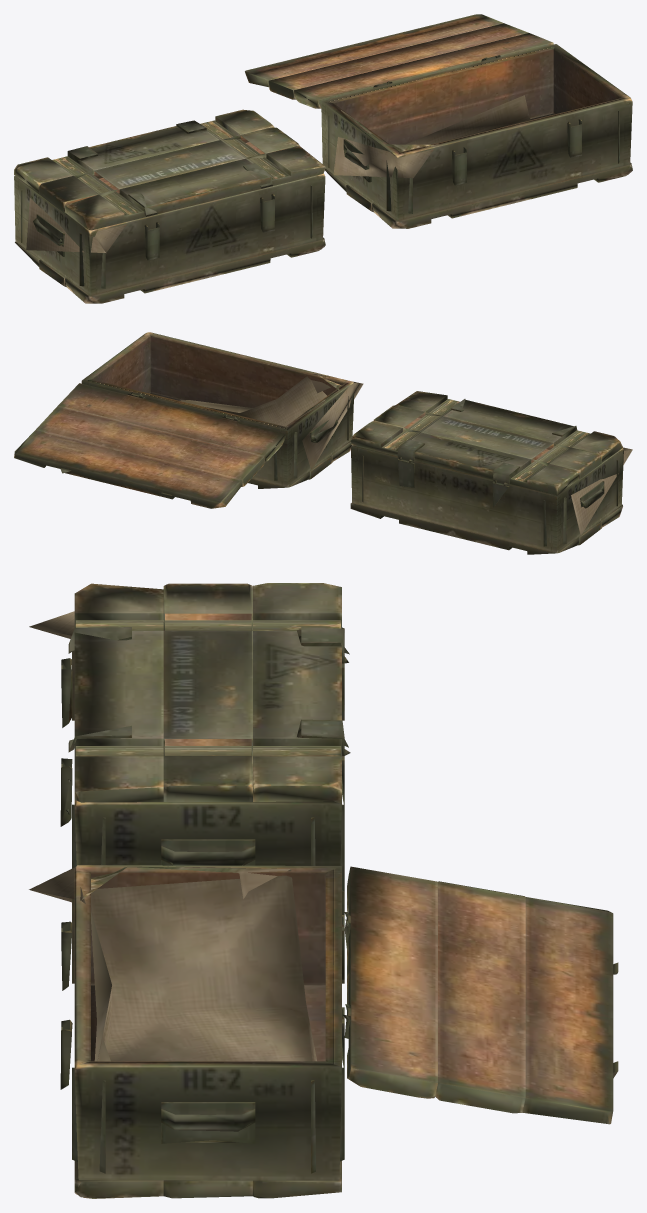
File: old_military_crate.glb
The picture shows the model from 3 angles, top to bottom: view 1: azimuth 30°, elevation 25°; view 2: azimuth 150°, elevation 25°; view 3: azimuth 270°, elevation 25°; orthographic projection. The views are drawn at different scales.
Parts seen in each view (by area): view 1: old_military_crate_lid_a; view 2: old_military_crate_lid_a; view 3: old_military_crate_lid_a.
Boxes of the visible parts, x1,y1,x2,y2 form: old_military_crate_lid_a: (14, 14, 632, 303); old_military_crate_lid_a: (14, 332, 632, 554); old_military_crate_lid_a: (29, 583, 618, 1198).
Size of the model in its own units: 1.81 by 0.2734 by 0.9479.
1 material, 1 textured.
